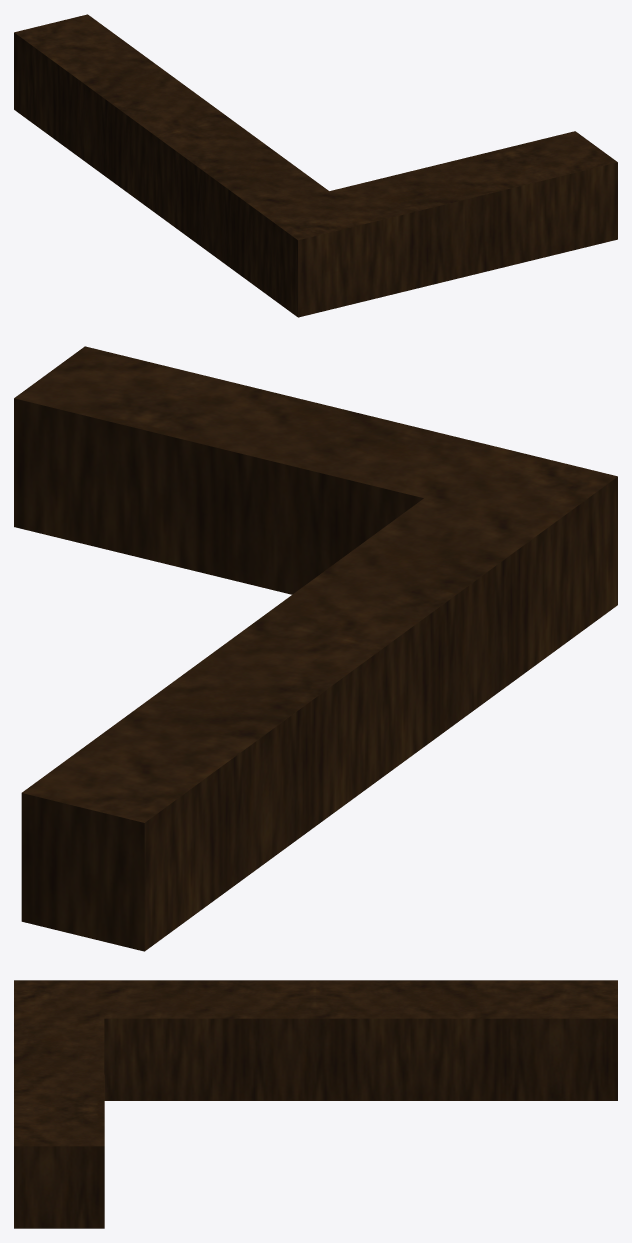
File: LetterL.obj
3 views of the same model, one above another, from view 1: azimuth 30°, elevation 25°; view 2: azimuth 150°, elevation 25°; view 3: azimuth 270°, elevation 25° (orthographic). The views are drawn at different scales.
Parts seen in each view (by area): view 1: LetterL; view 2: LetterL; view 3: LetterL.
Part boxes in pixels (x1,y1,x2,y2): LetterL: (14,14,617,317); LetterL: (14,346,617,951); LetterL: (14,980,617,1228).
Size of the model in its own units: 0.65 by 0.15 by 1.
